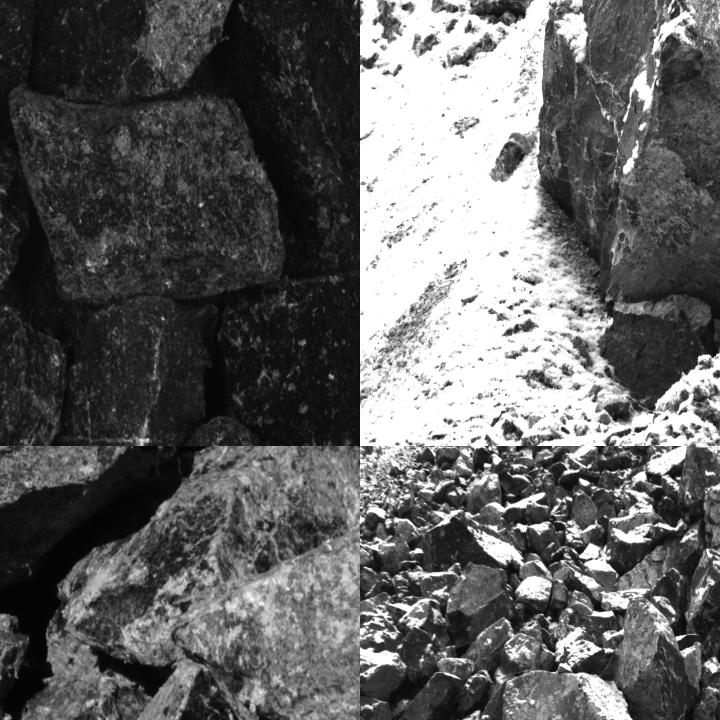stone: (536, 0, 719, 408), (60, 446, 359, 664), (7, 87, 286, 302), (0, 446, 186, 650), (242, 0, 359, 254), (218, 270, 359, 445), (28, 0, 236, 100), (0, 598, 149, 719), (612, 597, 698, 719), (0, 305, 68, 445), (421, 507, 524, 574), (501, 674, 637, 719), (0, 0, 37, 162), (129, 416, 321, 445), (446, 562, 508, 647), (0, 142, 28, 320), (685, 533, 719, 658), (387, 668, 464, 719), (360, 628, 408, 699), (399, 628, 459, 684), (676, 446, 719, 519), (558, 628, 616, 676), (360, 593, 405, 654), (501, 632, 556, 676), (398, 597, 452, 639), (610, 526, 652, 570), (528, 521, 564, 567), (466, 470, 503, 514), (645, 446, 689, 482), (571, 494, 613, 530), (514, 577, 551, 613), (585, 559, 618, 593), (525, 499, 550, 524)
